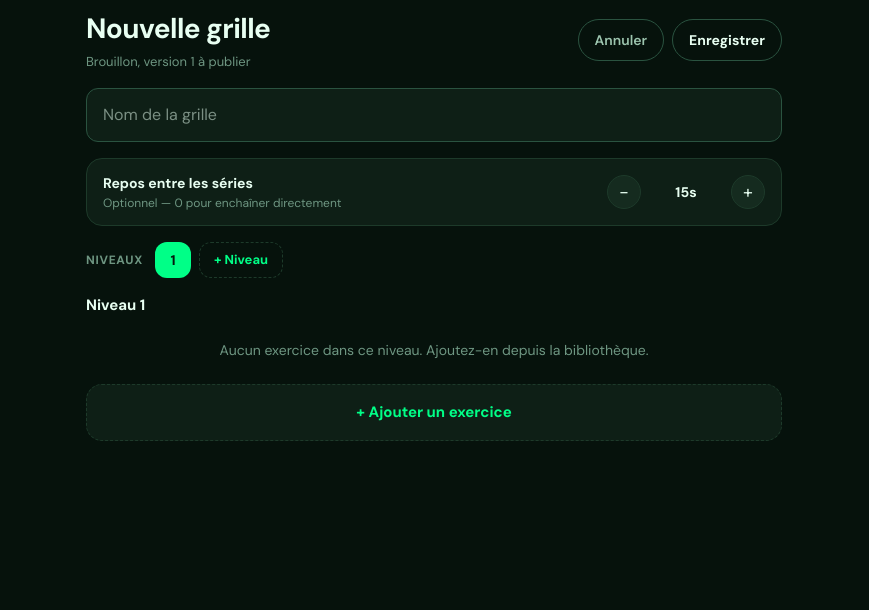
Test: series › fait tourner le mode et masque les reps en tenir au moins
Step 1. Click the button "+ Ajouter un exercice" → (434, 412), box 86,384 -> 782,440
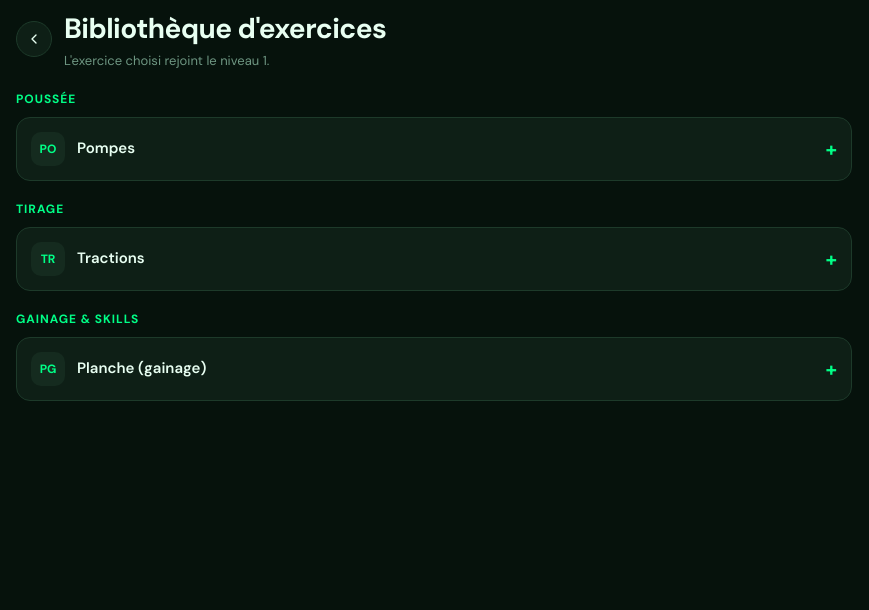
Step 2. Click the button "PG Planche (gainage) +" → (48, 368), box 16,336 -> 852,400
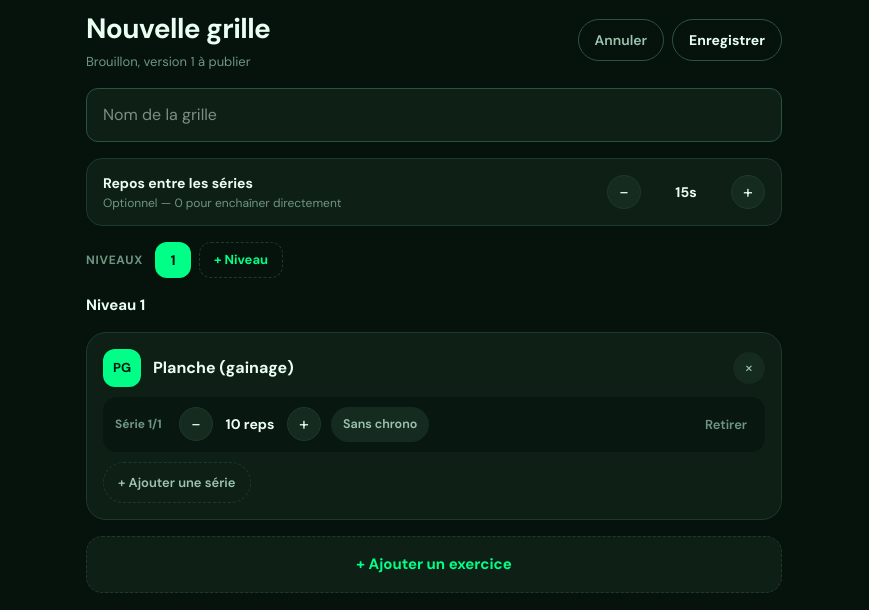
Step 3. Click the button "Sans chrono" → (380, 424), box 331,407 -> 429,442
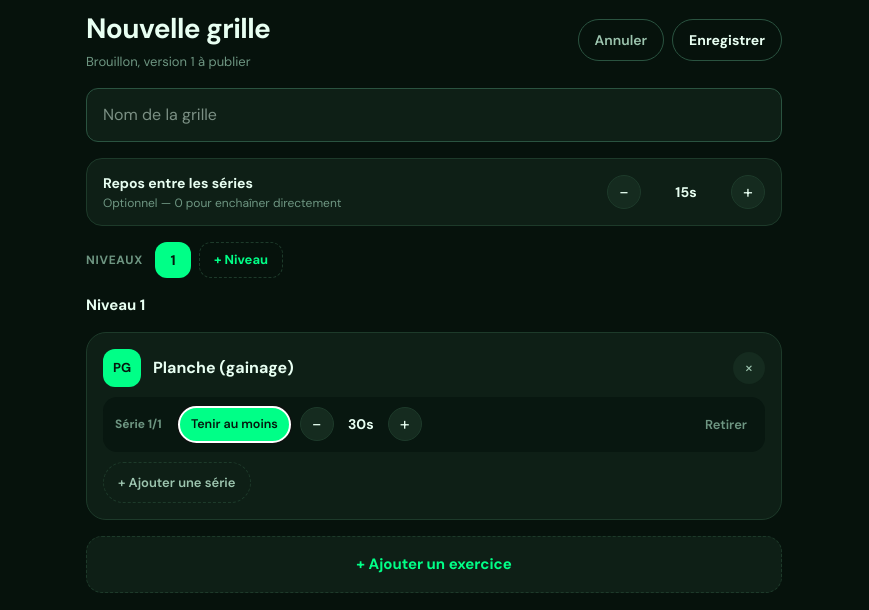
Result: the button "Tenir au moins" is shown
Result: the text "30s" is shown at 348,415 -> 374,433
Step 4. Click the button "Tenir au moins" → (234, 424), box 179,407 -> 290,442
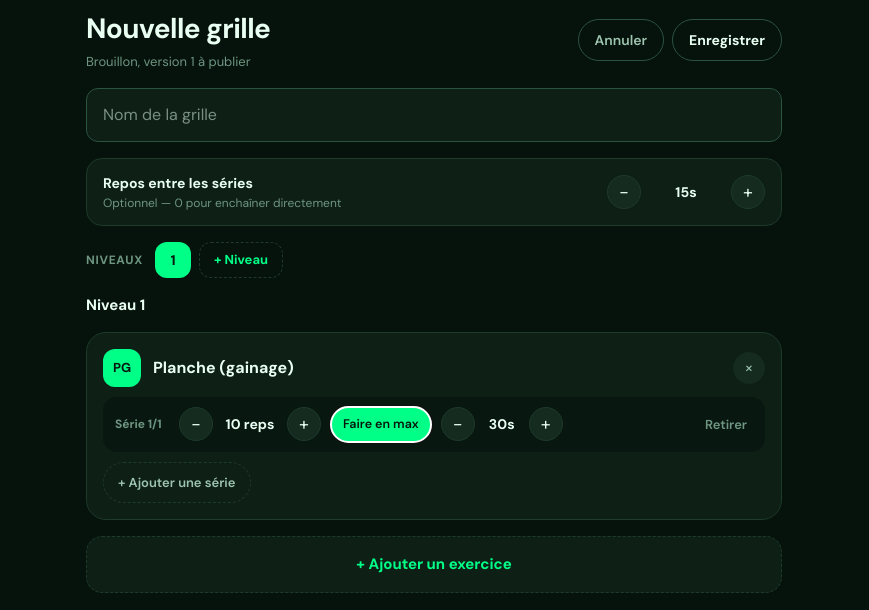
Result: the button "Faire en max" is shown at 331,407 -> 431,442
Result: the button named "Augmenter répétitions" is shown at 287,407 -> 321,441
